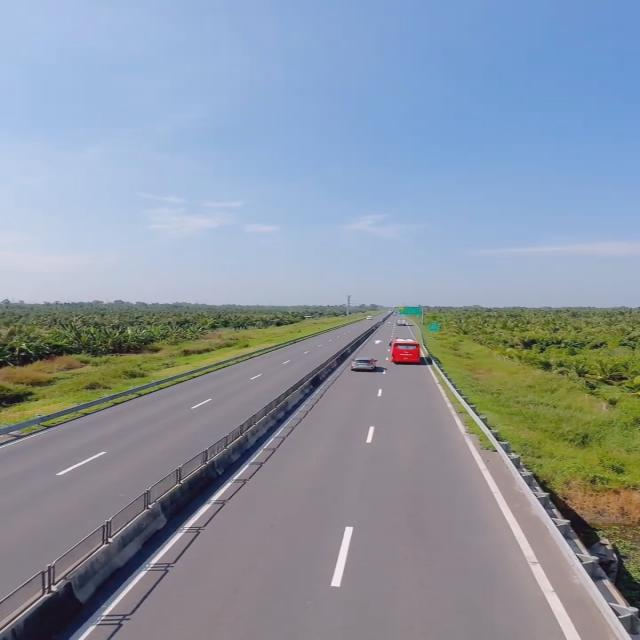bus: (386, 338, 423, 366)
car: (347, 353, 384, 374)
